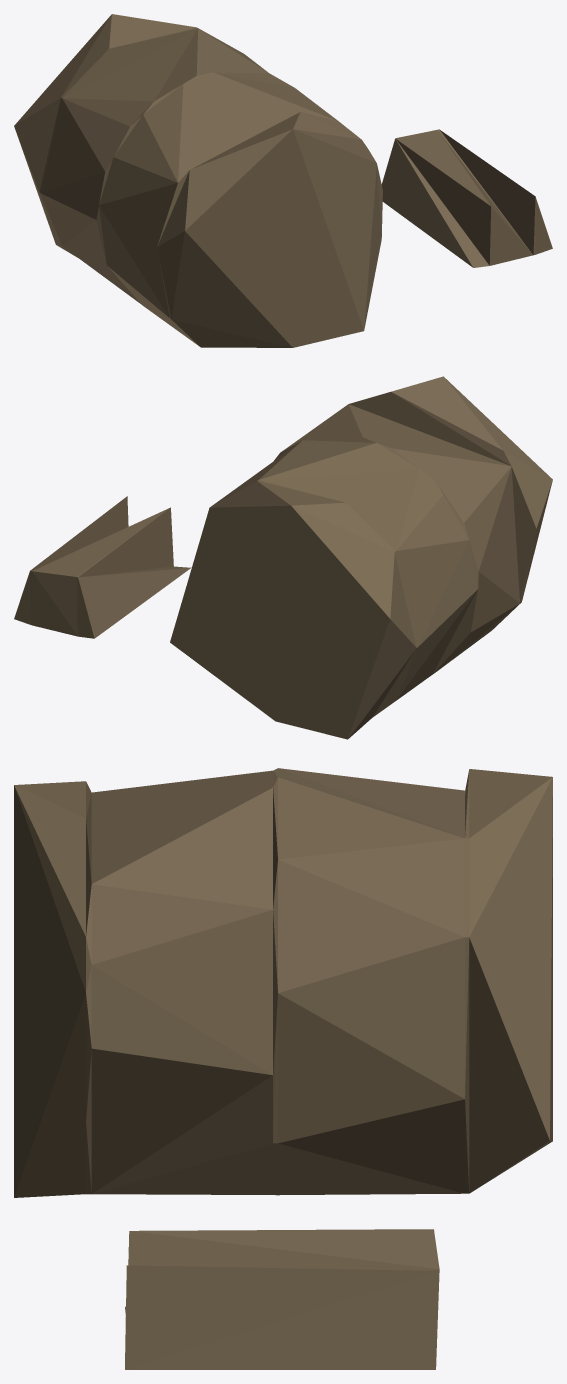
The model's file is hay-bales.lod2.glb.
3 renders of one model, top to bottom at view 1: azimuth 30°, elevation 25°; view 2: azimuth 150°, elevation 25°; view 3: azimuth 270°, elevation 25°, orthographic. The views are drawn at different scales.
Visible parts, largest first — view 1: Object_4; view 2: Object_4; view 3: Object_4.
Part boxes in pixels (left/top/right/bottom): Object_4: left=14, top=14, right=552, bottom=347; Object_4: left=14, top=376, right=552, bottom=739; Object_4: left=14, top=768, right=552, bottom=1369.
Bounding box in the file's own units: 3.45 × 1.77 × 2.42.
